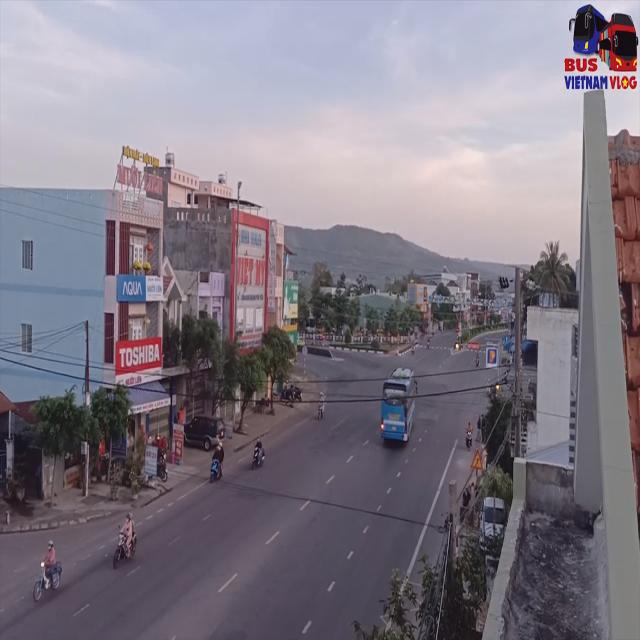bus: (380, 365, 417, 443)
motorbike: (36, 541, 64, 605), (113, 511, 138, 570), (210, 443, 224, 487), (251, 436, 265, 473), (464, 421, 474, 451)
